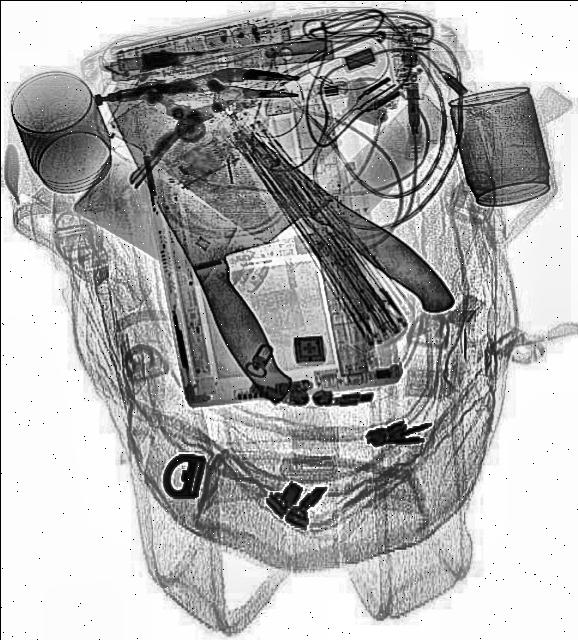Knife: (106, 57, 466, 361), (103, 54, 349, 412)
